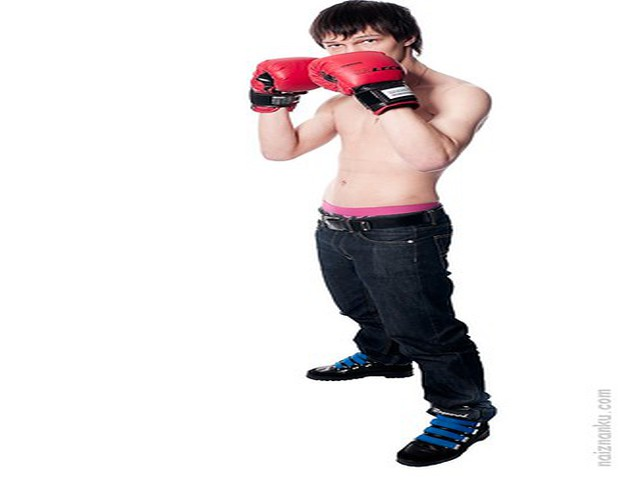Person: (248, 5, 523, 466)
